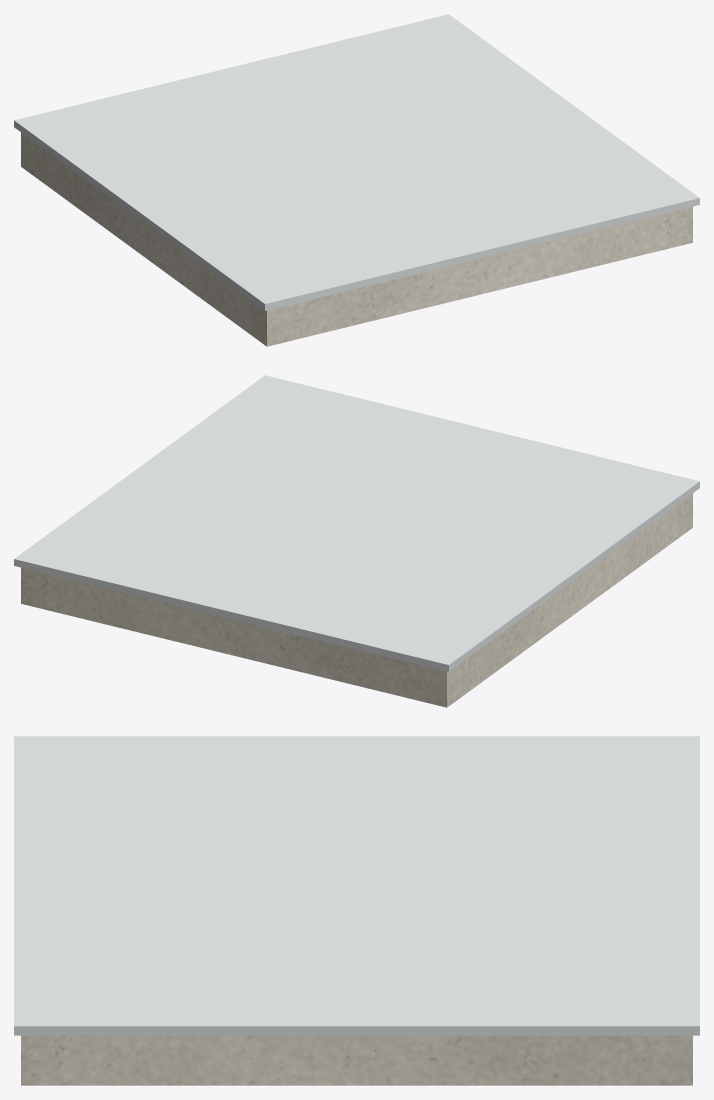
Rendered from floor_tile_bath.glb.
3 renders of one model, top to bottom at view 1: azimuth 30°, elevation 25°; view 2: azimuth 150°, elevation 25°; view 3: azimuth 270°, elevation 25°, orthographic. The views are drawn at different scales.
Parts seen in each view (by area): view 1: floor_tile_bath_tile, floor_tile_bath_plaster; view 2: floor_tile_bath_tile, floor_tile_bath_plaster; view 3: floor_tile_bath_tile, floor_tile_bath_plaster.
Part boxes in pixels (left/top/right/bottom): floor_tile_bath_tile: left=14, top=14, right=699, bottom=310; floor_tile_bath_plaster: left=21, top=132, right=692, bottom=346; floor_tile_bath_tile: left=14, top=375, right=699, bottom=671; floor_tile_bath_plaster: left=21, top=493, right=692, bottom=707; floor_tile_bath_tile: left=14, top=736, right=699, bottom=1035; floor_tile_bath_plaster: left=21, top=1035, right=692, bottom=1085.
Bounding box in the file's own units: 2 × 0.2 × 2.
2 materials, 1 textured.
